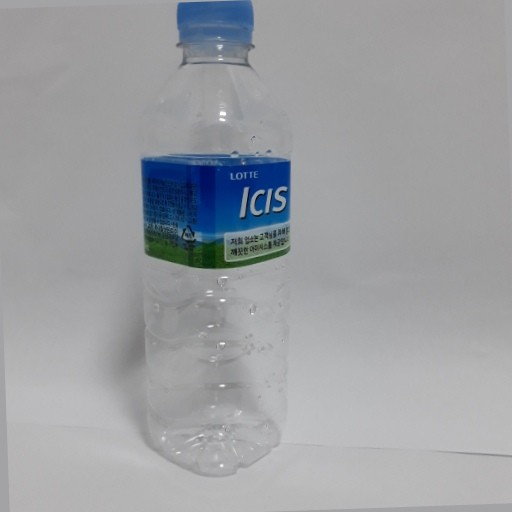Plastic_0: (124, 1, 310, 484)
